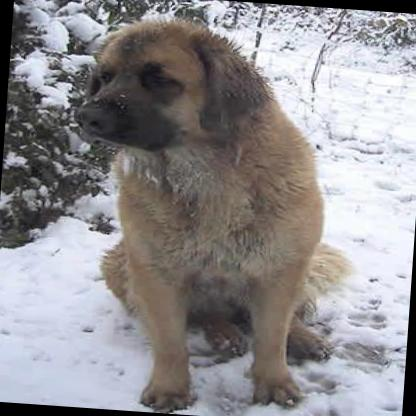Leonberg: (50, 8, 369, 416)
